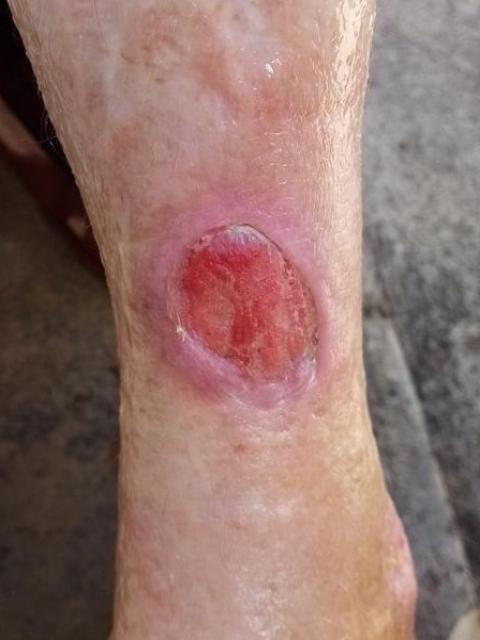wound: (166, 222, 323, 404)
